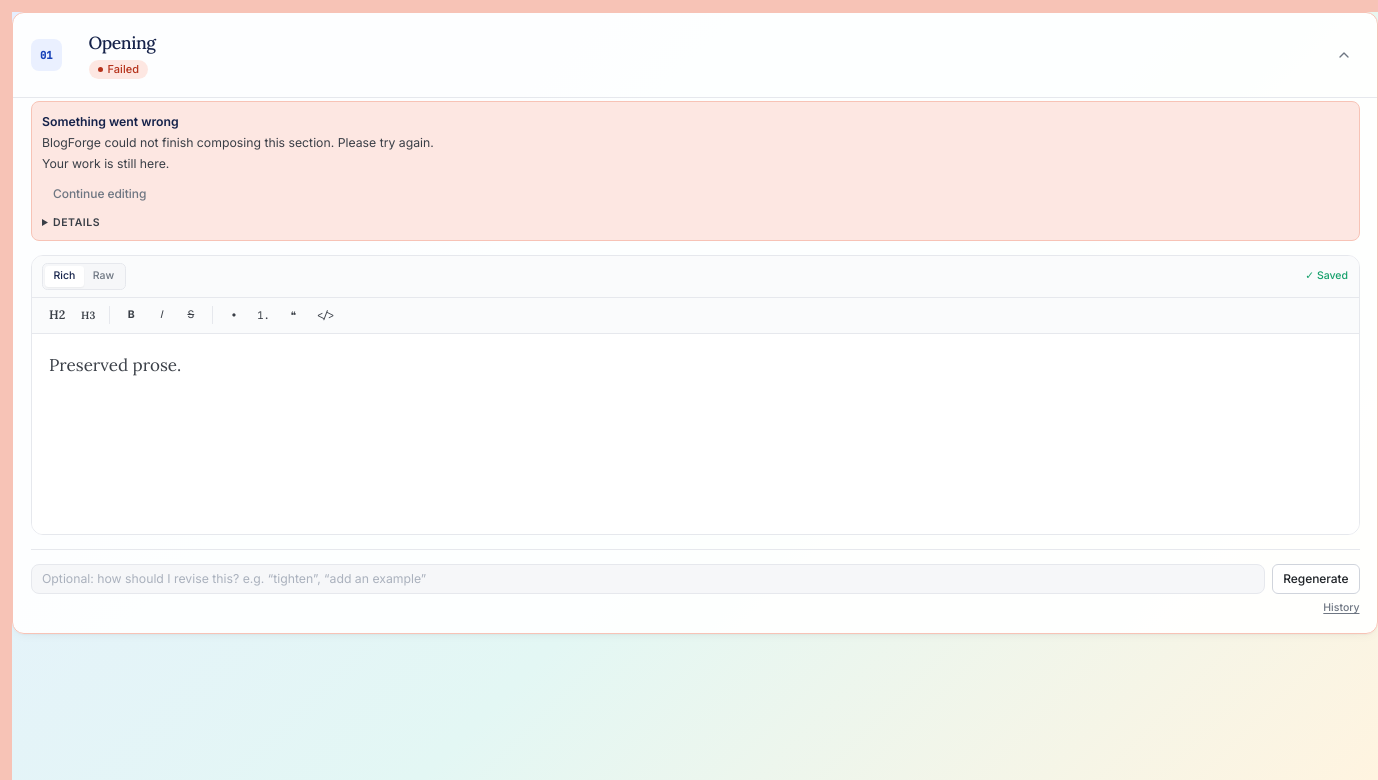
Test case: SectionCard › lets the writer dismiss a generic persisted failure and continue editing
The image size is (1378, 780).
Click the button "Continue editing".
click(100, 194)  # box x1=42 y1=179 x2=157 y2=209
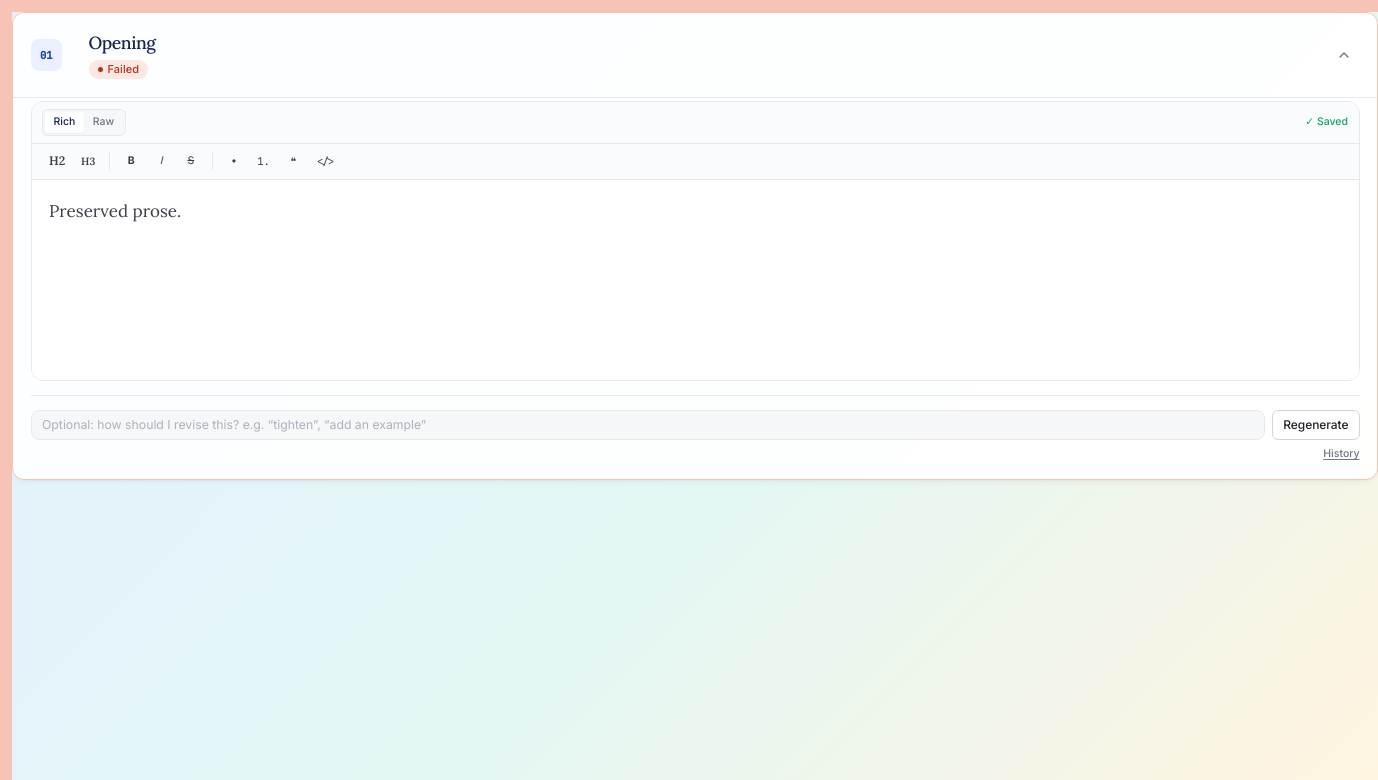
Expected: the text box "Preserved prose." is shown, x1=49 y1=200 x2=181 y2=222
Expected: the message is gone
